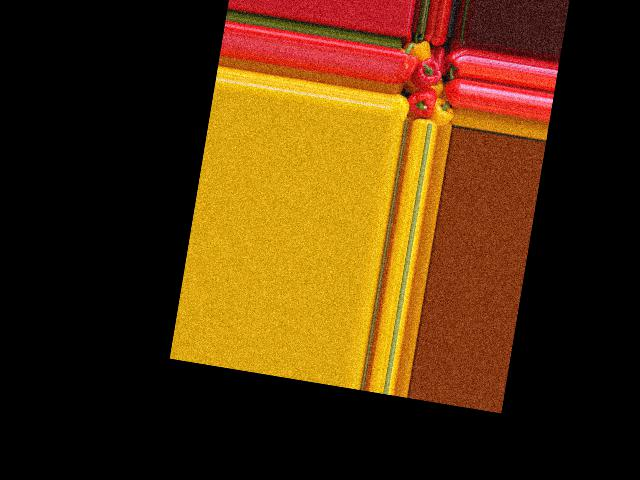bell_pepper: (427, 99, 453, 127)
